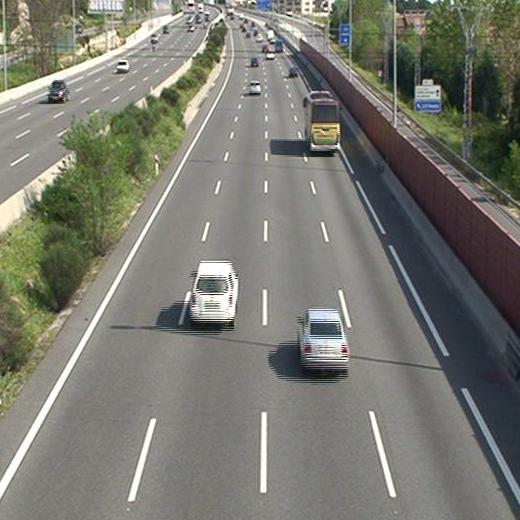bus: (302, 91, 340, 153)
car: (188, 261, 239, 326), (300, 308, 350, 369), (248, 81, 262, 93), (288, 66, 300, 77), (250, 57, 258, 66)
